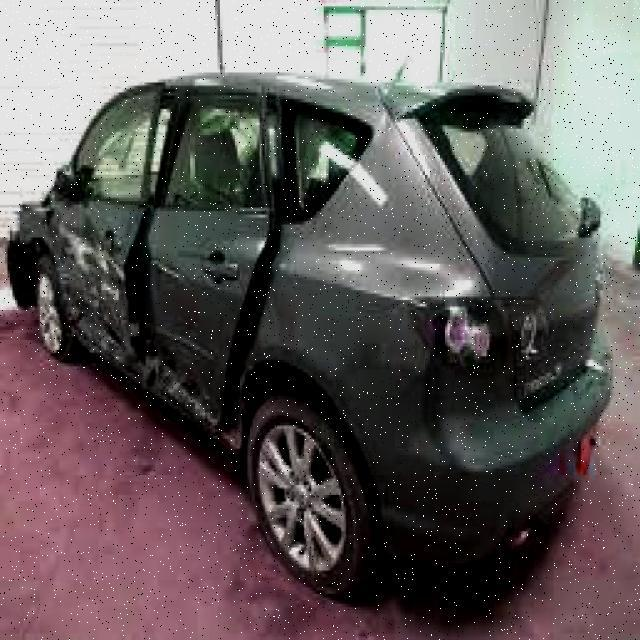car damage: (4, 84, 245, 450)
